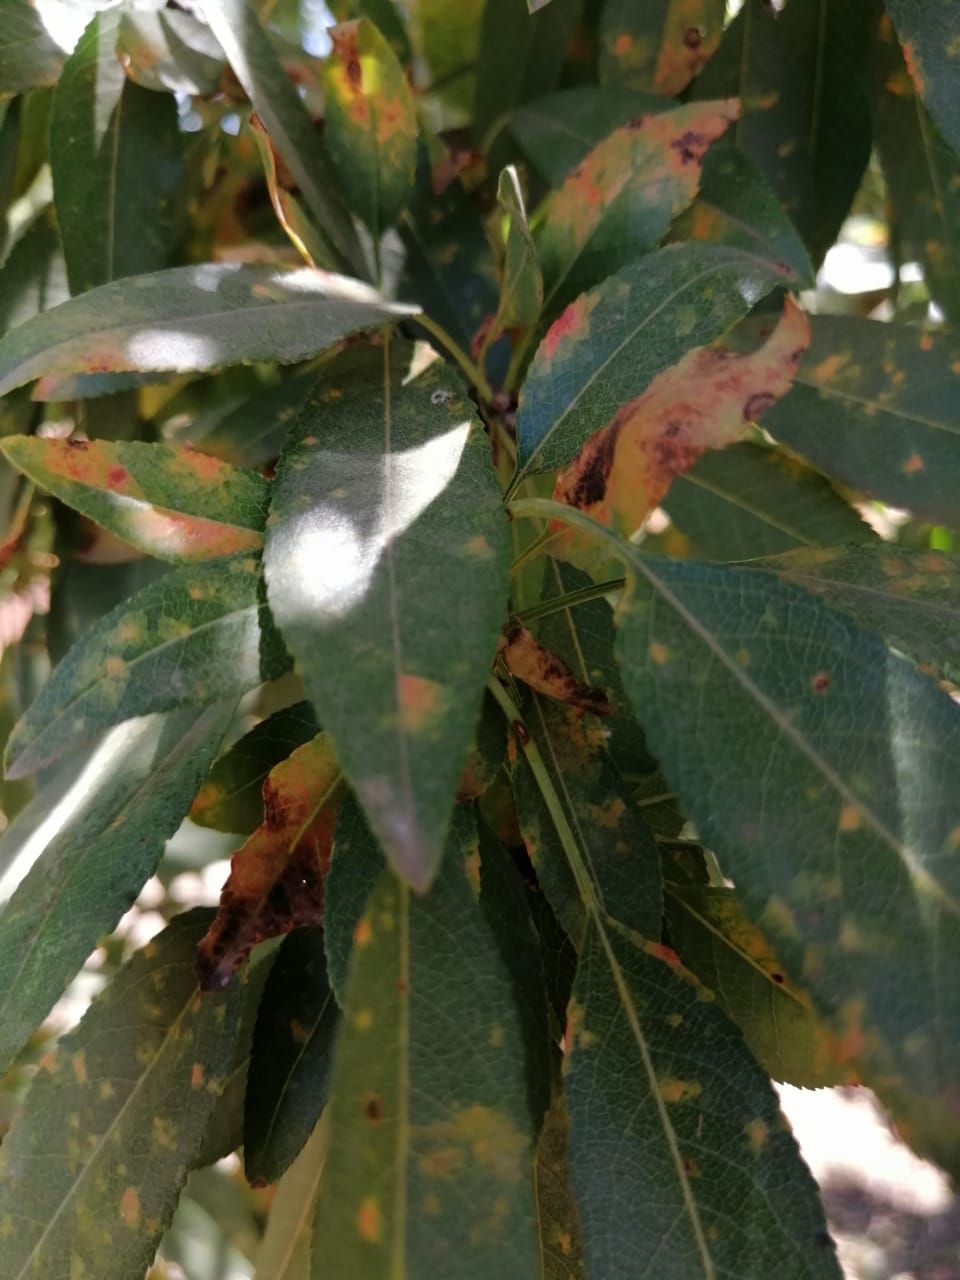polystigma: (264, 323, 511, 898), (484, 99, 744, 410), (511, 234, 799, 483), (1, 429, 268, 568), (315, 21, 430, 241)
